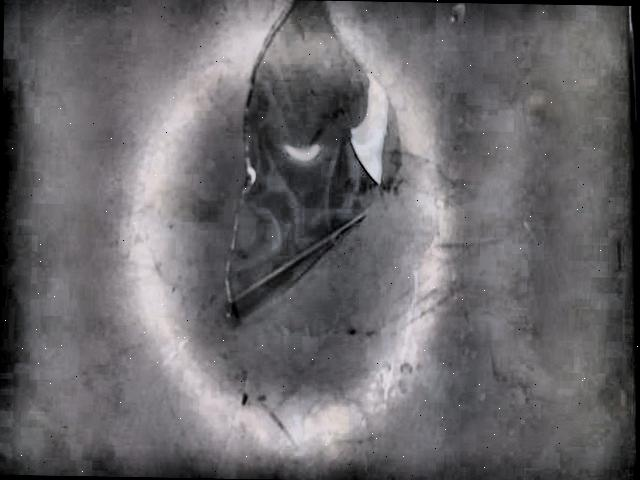Plastic: (224, 1, 407, 326)
